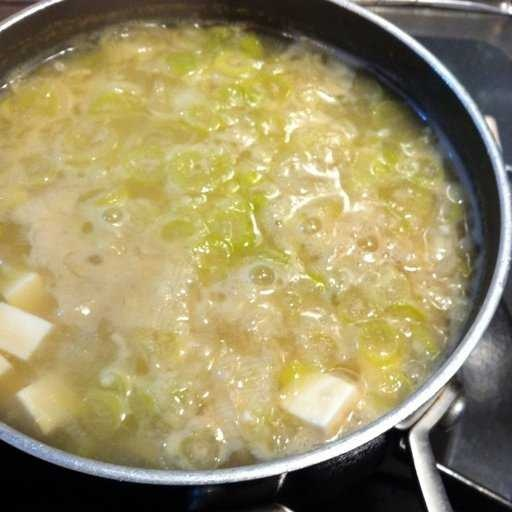soup: (1, 2, 486, 479)
